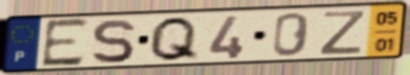0: (271, 11, 312, 59)
4: (205, 13, 247, 61)
E: (39, 16, 92, 70)
Q: (146, 15, 201, 64)
S: (89, 17, 137, 65)
Z: (317, 9, 368, 57)
